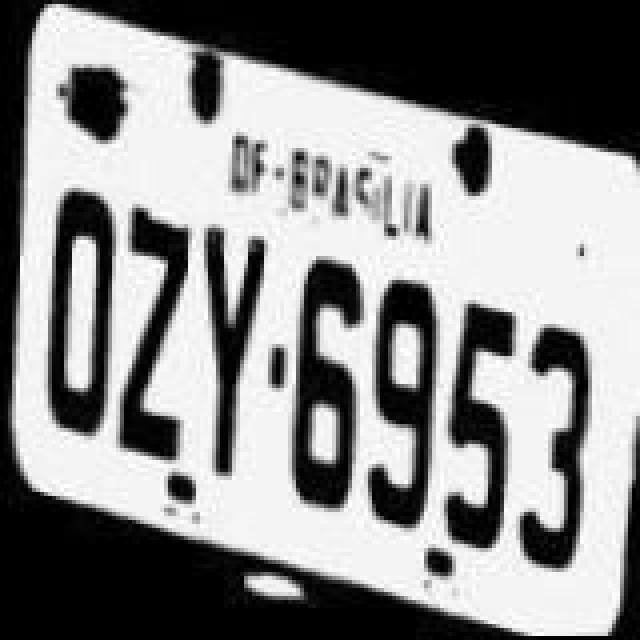3: (510, 324, 598, 564)
5: (432, 304, 524, 552)
6: (278, 254, 366, 502)
9: (358, 274, 446, 526)
O: (30, 190, 122, 434)
Y: (190, 222, 270, 478)
Z: (112, 202, 200, 458)
